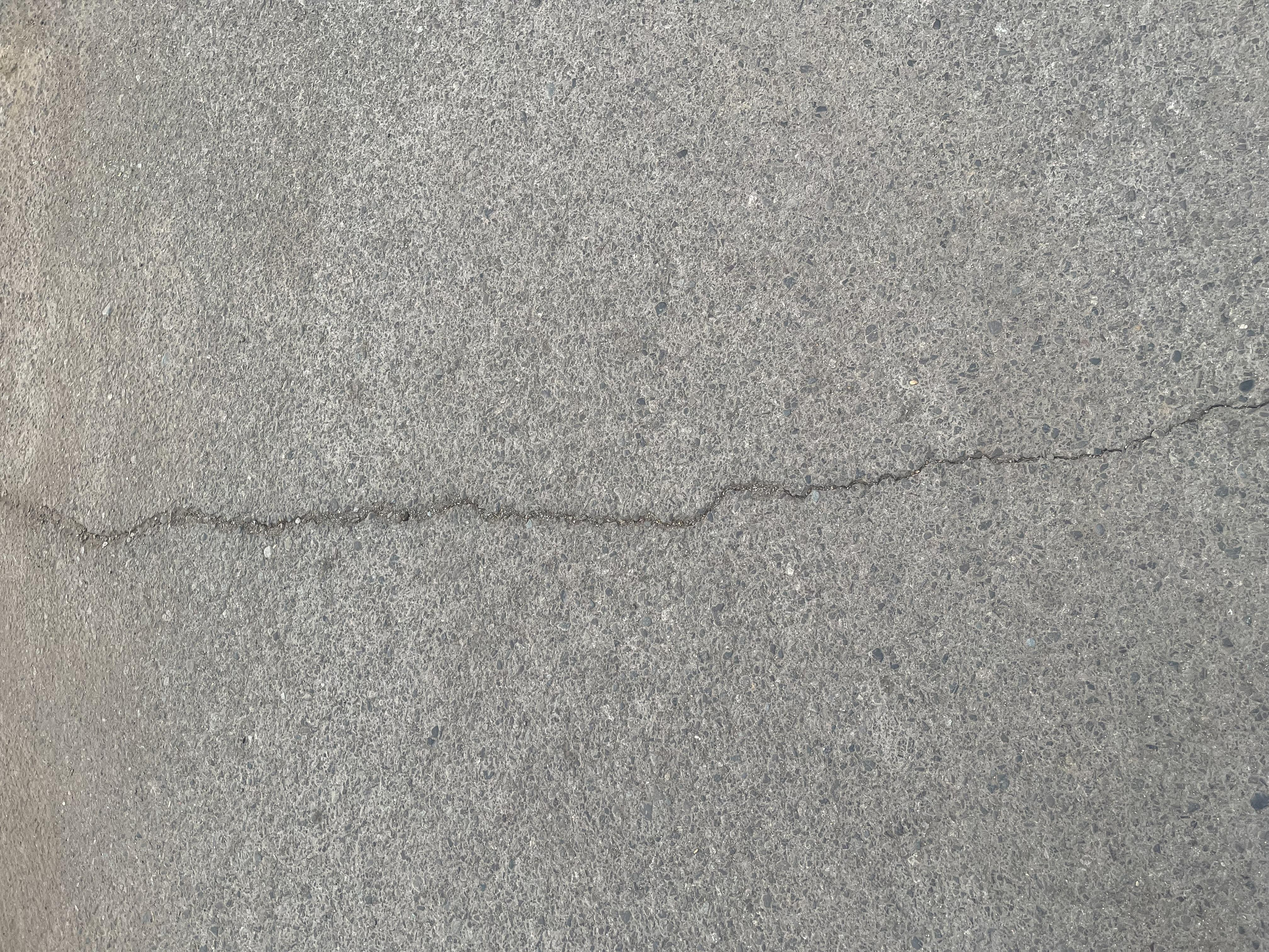GRIETA: (0, 398, 1269, 545)
